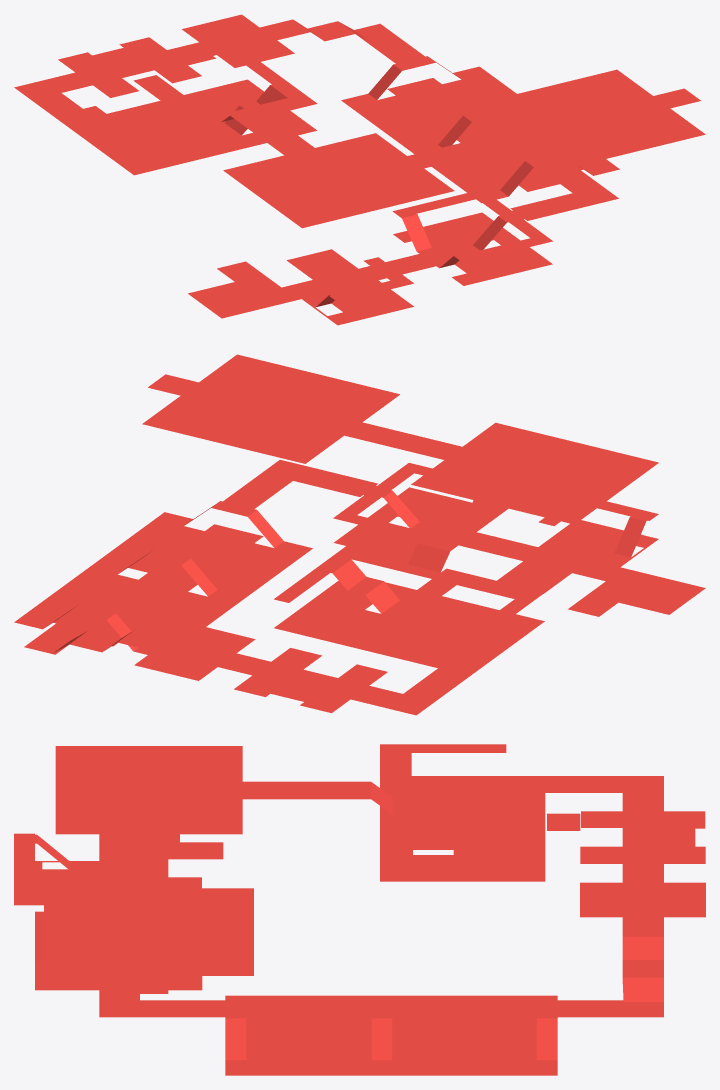
File: 0920_npc_route 1.fbx
3 renders of one model, top to bottom at view 1: azimuth 30°, elevation 25°; view 2: azimuth 150°, elevation 25°; view 3: azimuth 270°, elevation 25°, orthographic. The views are drawn at different scales.
Parts seen in each view (by area): view 1: NPC_route; view 2: NPC_route; view 3: NPC_route.
Boxes of the visible parts, x1,y1,x2,y2 form: NPC_route: (14,14,705,325); NPC_route: (14,354,705,715); NPC_route: (14,744,705,1075).
Size of the model in its own units: 9565 by 1649 by 9864.
